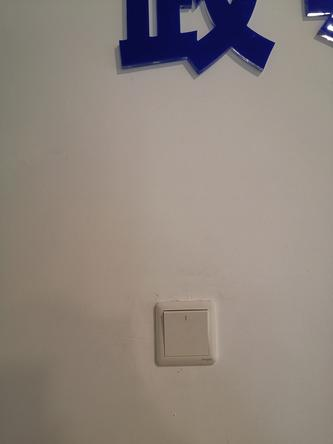switch: (161, 304, 215, 363)
